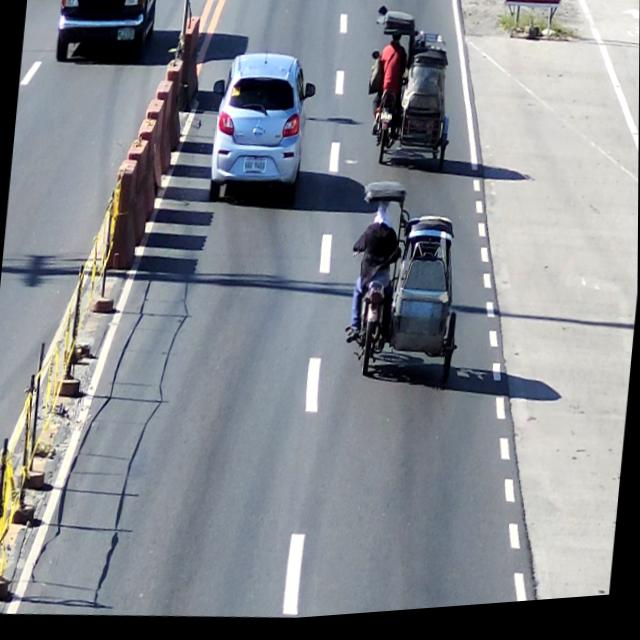Car: (208, 49, 310, 212), (52, 0, 158, 67)
License-Plate: (240, 156, 269, 181), (114, 26, 137, 47), (376, 114, 393, 129)
Tricycle: (343, 177, 476, 397), (359, 7, 462, 182)
